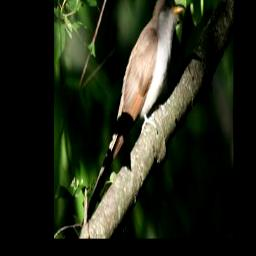Cuckoo: (82, 0, 185, 226)
